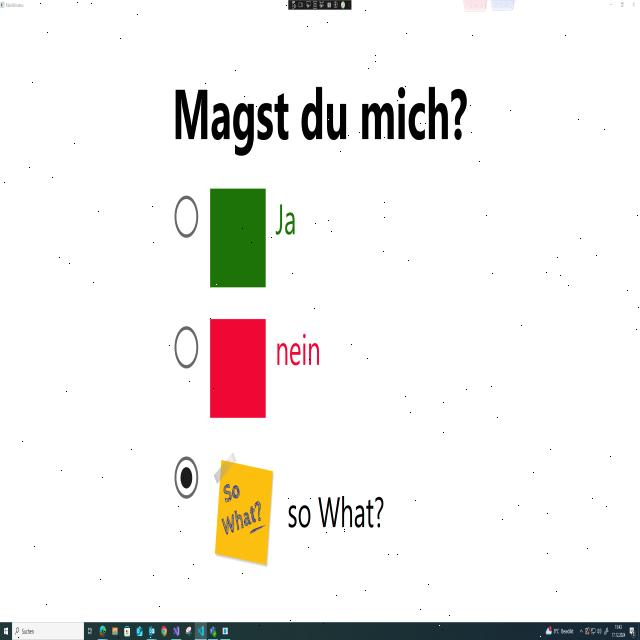button: (606, 0, 615, 14), (619, 0, 626, 13), (630, 0, 637, 11)
dropdownMenu: (554, 627, 584, 636)
icon: (197, 624, 205, 638), (209, 625, 217, 638), (99, 624, 106, 638), (172, 625, 180, 637), (148, 624, 155, 637), (185, 626, 192, 638), (124, 625, 130, 638), (630, 626, 636, 639), (136, 626, 143, 637), (161, 625, 167, 637), (87, 626, 93, 637), (112, 626, 118, 637), (3, 626, 9, 636), (546, 626, 552, 636), (585, 626, 590, 636), (222, 627, 228, 635), (590, 627, 596, 635), (597, 626, 602, 635), (604, 626, 608, 636)
input: (12, 621, 83, 640)
label: (160, 73, 478, 152), (283, 489, 393, 543), (270, 323, 328, 380), (270, 197, 310, 255)
menu: (1, 620, 640, 640)
radio: (165, 180, 201, 249), (168, 446, 201, 514), (170, 308, 202, 376)
